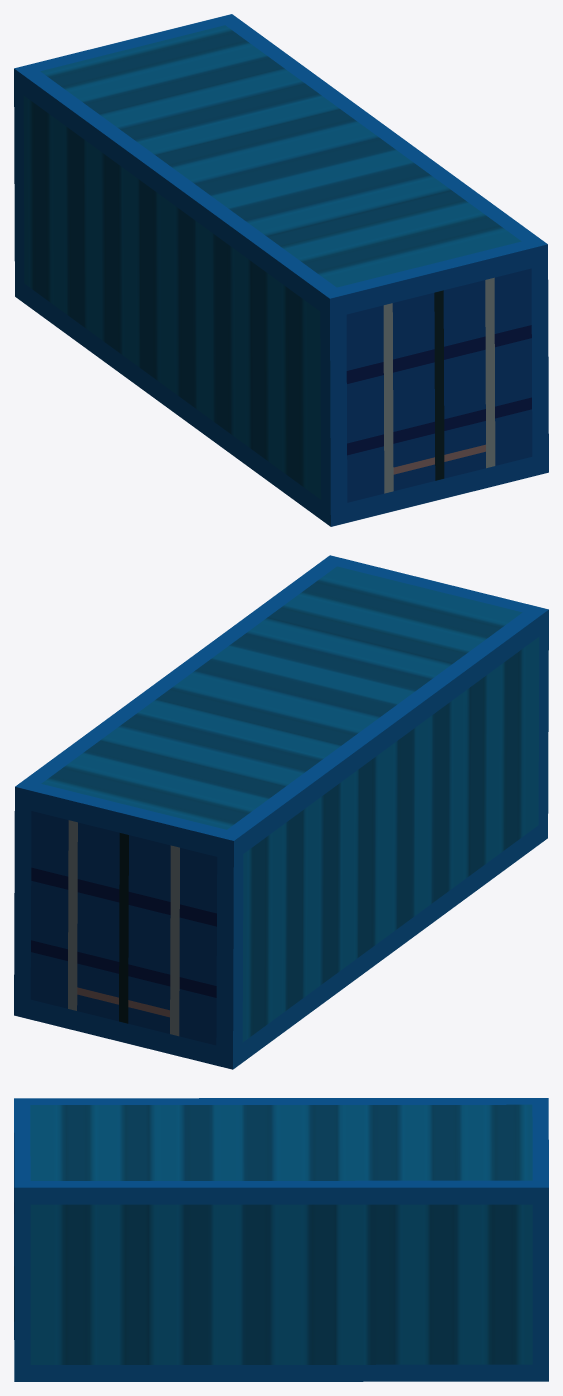
File: Blue container.fbx
3 views of the same model, one above another, from view 1: azimuth 30°, elevation 25°; view 2: azimuth 150°, elevation 25°; view 3: azimuth 270°, elevation 25° (orthographic). The views are drawn at different scales.
Parts seen in each view (by area): view 1: SA_Prop_ShippingContainer_02; view 2: SA_Prop_ShippingContainer_02; view 3: SA_Prop_ShippingContainer_02.
Part boxes in pixels (bbox=[...]): SA_Prop_ShippingContainer_02: bbox=[14, 14, 548, 526]; SA_Prop_ShippingContainer_02: bbox=[14, 555, 548, 1069]; SA_Prop_ShippingContainer_02: bbox=[14, 1098, 548, 1381].
Bounding box in the file's own units: 5.88 × 5.86 × 14.59.
